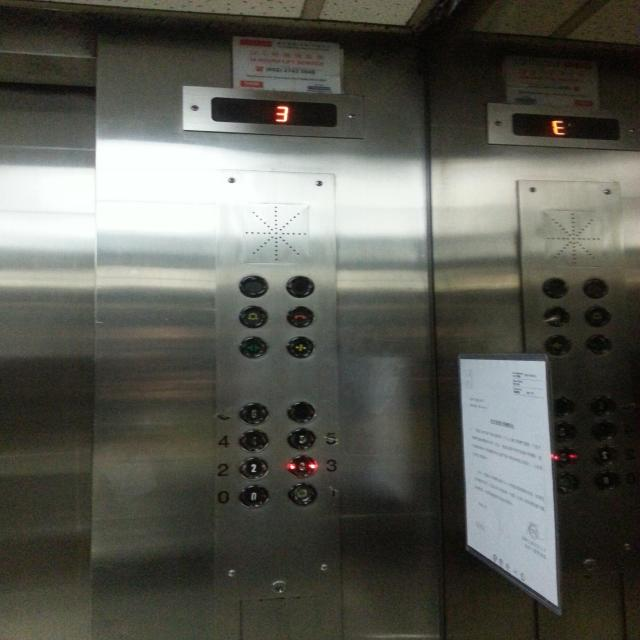0: (238, 484, 270, 509)
2: (238, 456, 268, 481)
4: (238, 429, 270, 452)
6: (238, 401, 269, 425)
alarm: (238, 304, 268, 328), (288, 482, 318, 506), (582, 303, 611, 327)
blur: (286, 454, 318, 478), (286, 427, 316, 451)
call: (286, 304, 314, 328)
close: (285, 334, 315, 360)
empty: (284, 274, 315, 299), (239, 274, 269, 299), (286, 399, 315, 424), (541, 276, 568, 300), (581, 276, 609, 299)
keyhole: (580, 558, 598, 574), (270, 579, 288, 594)
led: (208, 95, 338, 129), (509, 110, 623, 145)
open: (238, 335, 268, 359)
unknown: (593, 468, 620, 491), (593, 444, 619, 467), (592, 418, 618, 441), (590, 394, 616, 417), (585, 333, 611, 356), (545, 333, 571, 356)
